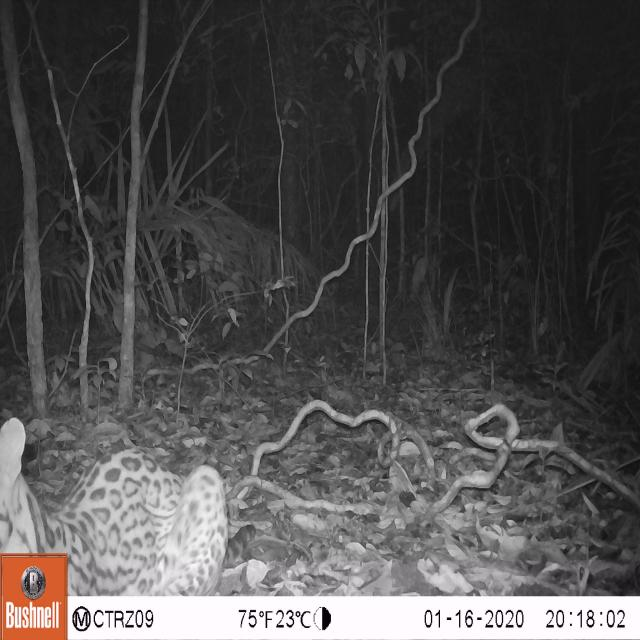Ocelote: (1, 413, 230, 600)
